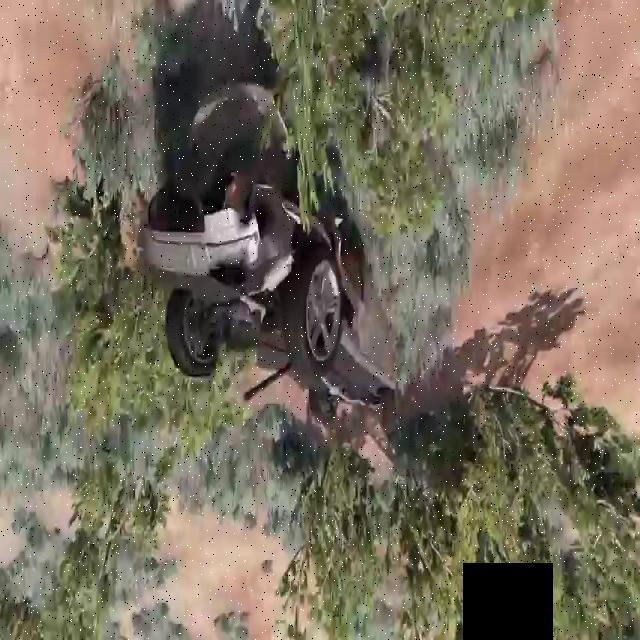severe: (138, 76, 404, 440)
